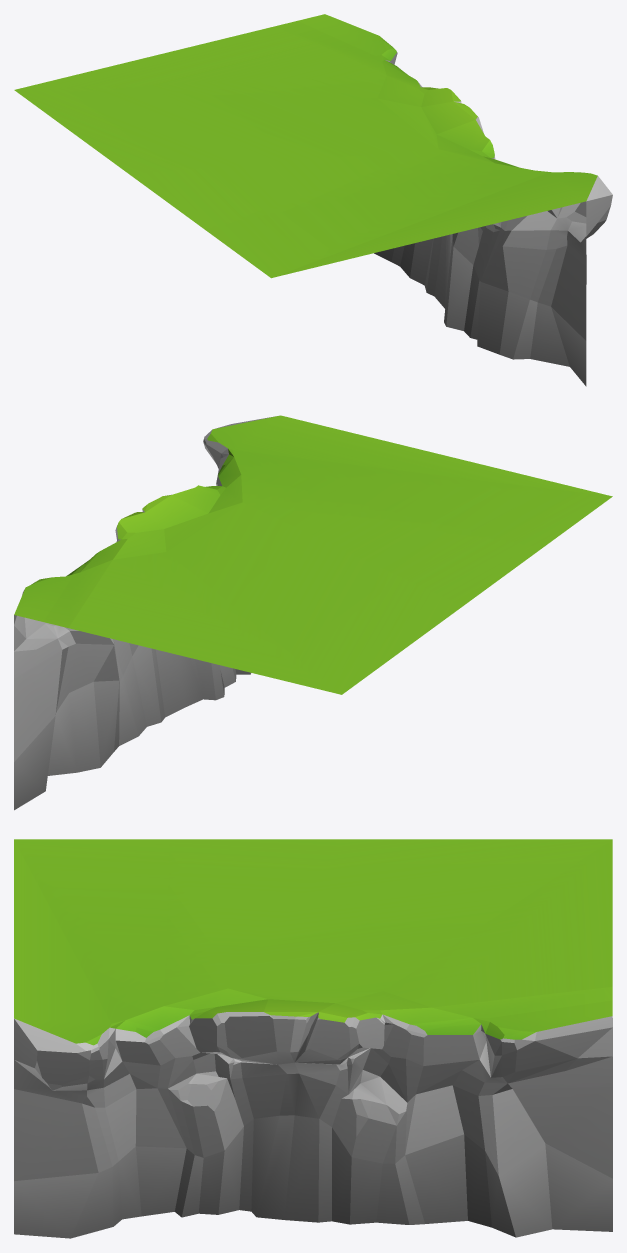
Rendered from Cliff_Plateau3.fbx.
3 renders of one model, top to bottom at view 1: azimuth 30°, elevation 25°; view 2: azimuth 150°, elevation 25°; view 3: azimuth 270°, elevation 25°, orthographic. The views are drawn at different scales.
Parts seen in each view (by area): view 1: Cliff_Plateau3; view 2: Cliff_Plateau3; view 3: Cliff_Plateau3.
Boxes of the visible parts, <box> form: Cliff_Plateau3: <box>14,14,612,386</box>; Cliff_Plateau3: <box>14,415,612,810</box>; Cliff_Plateau3: <box>14,839,612,1238</box>.
Size of the model in its own units: 59.21 by 30.13 by 73.86.
